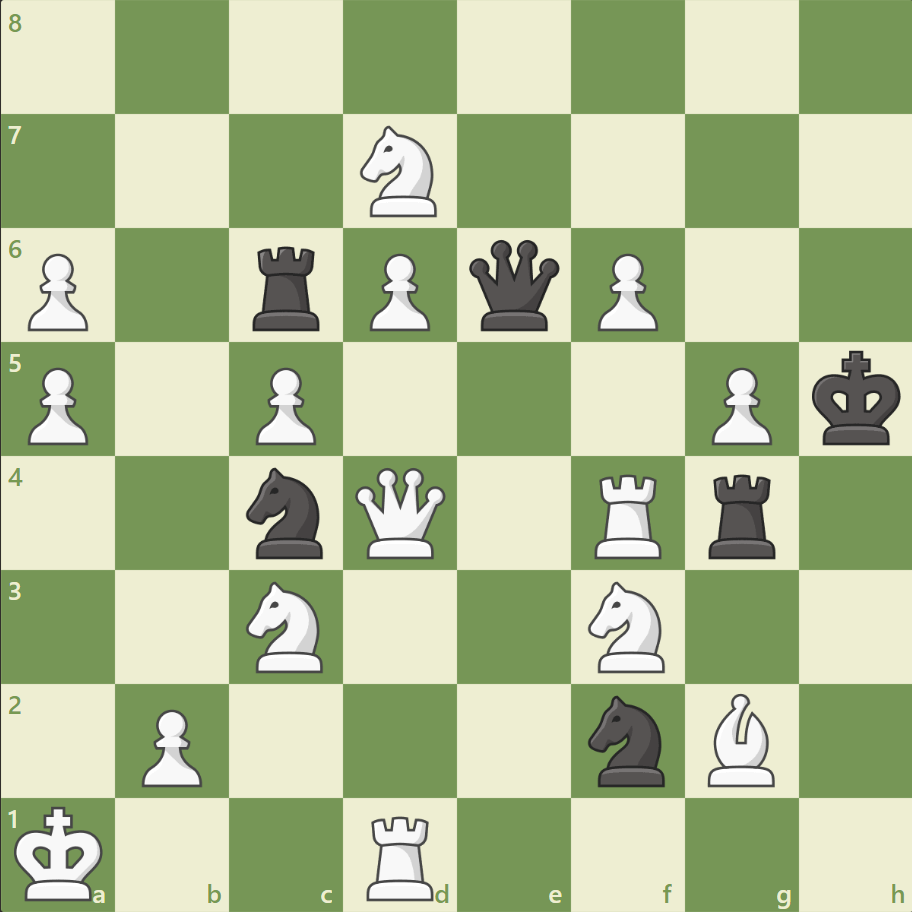B: (698, 687, 782, 790)
K: (11, 798, 111, 906)
N: (351, 121, 449, 223), (238, 575, 335, 677), (579, 575, 676, 677)
P: (20, 246, 95, 337), (20, 359, 95, 450), (247, 359, 322, 450), (701, 359, 776, 450), (133, 700, 208, 791), (361, 246, 435, 337), (588, 246, 662, 337)
Q: (351, 463, 450, 562)
R: (587, 466, 670, 563), (360, 806, 442, 904)
k: (806, 344, 906, 452)
n: (238, 461, 335, 564), (579, 688, 676, 791)
q: (464, 236, 563, 335)
r: (246, 239, 329, 336), (700, 466, 783, 563)
